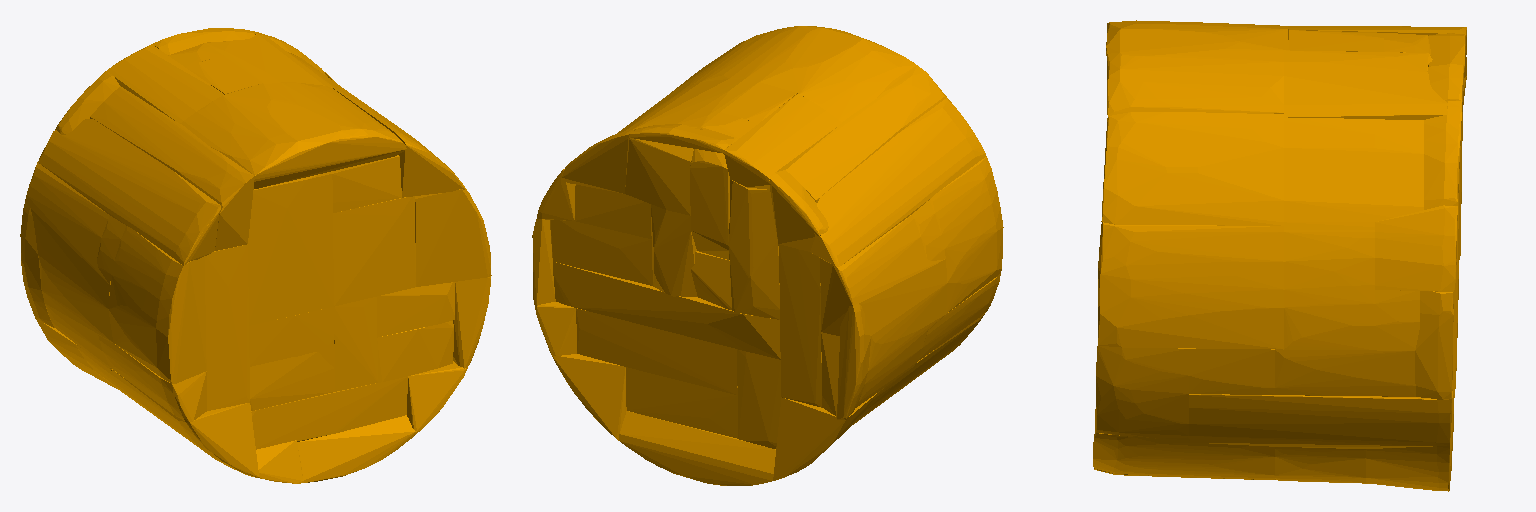
robot.urdf — can-meatball:
<?xml version="1.0" ?>
<robot name="can-meatball">
  <link name="baseLink">
    <contact>
      <lateral_friction value="1.0"/>
      <inertia_scaling value="3.0"/>
    </contact>
    <inertial>
      <origin rpy="0 0 0" xyz="0.000 0.000 0.000"/>
       <mass value=".1"/>
       <inertia ixx="1" ixy="0.0" ixz="0.0" iyy="1" iyz="0.0" izz="1"/>
    </inertial>
    <visual>
      <origin rpy="0 0 0" xyz="0 0 0"/>
      <geometry>
        <mesh filename="can/can-meatball.obj" scale="1.0 1.0 1.0"/>
      </geometry>
    </visual>
    <collision>
      <origin rpy="0 0 0" xyz="0 0 0"/>
      <geometry>
        <mesh filename="../collision/can/can-meatball.obj" scale="1.0 1.0 1.0"/>
      </geometry>
    </collision>
  </link>
</robot>
        

--- Render facts (derived) ---
3 views of the same robot in one strip: view 1: azimuth 30°, elevation 25°; view 2: azimuth 150°, elevation 25°; view 3: azimuth 270°, elevation 25° (orthographic).
Robot: can-meatball — 1 links, 0 joints (none); root link baseLink; default pose: all joints at 0.
Visible links, largest first — view 1: baseLink; view 2: baseLink; view 3: baseLink.
Link boxes in pixels (x1,y1,x2,y2): baseLink: (20,28,491,483); baseLink: (532,26,1003,485); baseLink: (1093,20,1466,491).
Bounding box of the posed robot: 0.0746 × 0.0603 × 0.0752 m (x, y, z).
Meshes: 1 distinct files referenced, 1 mesh visuals loaded (1 OBJ).